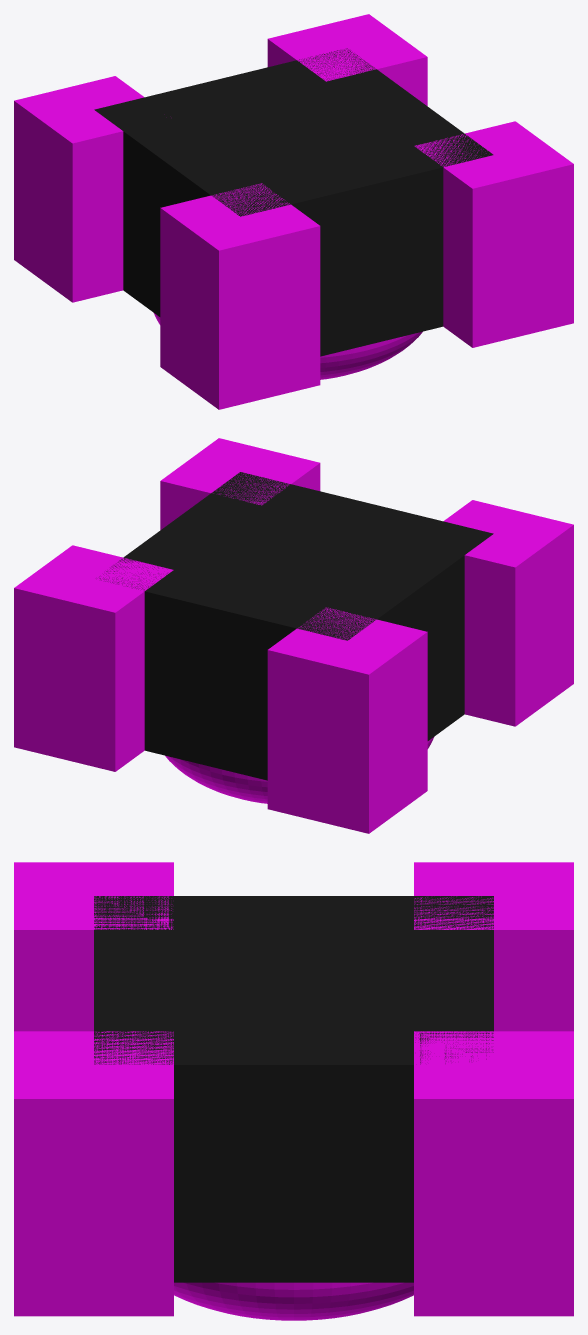
The model's file is vanguardCommandCenter.obj.
3 views of the same model, one above another, from view 1: azimuth 30°, elevation 25°; view 2: azimuth 150°, elevation 25°; view 3: azimuth 270°, elevation 25° (orthographic). The views are drawn at different scales.
Parts seen in each view (by area): view 1: Cube.001, Cube.002, Cube.004, Cube.003, Cube, Sphere; view 2: Cube.001, Cube.003, Cube, Cube.002, Cube.004, Sphere; view 3: Cube.001, Cube, Cube.004, Cube.003, Cube.002, Sphere.
Boxes of the visible parts, left/top/right/bottom form: Cube.001: left=94, top=48, right=493, bottom=356; Cube.002: left=160, top=183, right=320, bottom=409; Cube.004: left=414, top=121, right=573, bottom=347; Cube.003: left=14, top=76, right=143, bottom=302; Cube: left=267, top=14, right=427, bottom=105; Sphere: left=154, top=313, right=422, bottom=379; Cube.001: left=99, top=472, right=493, bottom=780; Cube.003: left=267, top=607, right=427, bottom=833; Cube: left=14, top=545, right=173, bottom=771; Cube.002: left=444, top=500, right=573, bottom=726; Cube.004: left=160, top=438, right=320, bottom=529; Sphere: left=165, top=737, right=433, bottom=803; Cube.001: left=94, top=896, right=493, bottom=1282; Cube: left=414, top=1031, right=573, bottom=1316; Cube.004: left=14, top=1031, right=173, bottom=1316; Cube.003: left=414, top=862, right=573, bottom=1031; Cube.002: left=14, top=862, right=173, bottom=1031; Sphere: left=174, top=1282, right=413, bottom=1320.
Size of the model in its own units: 112 by 67.95 by 112.
